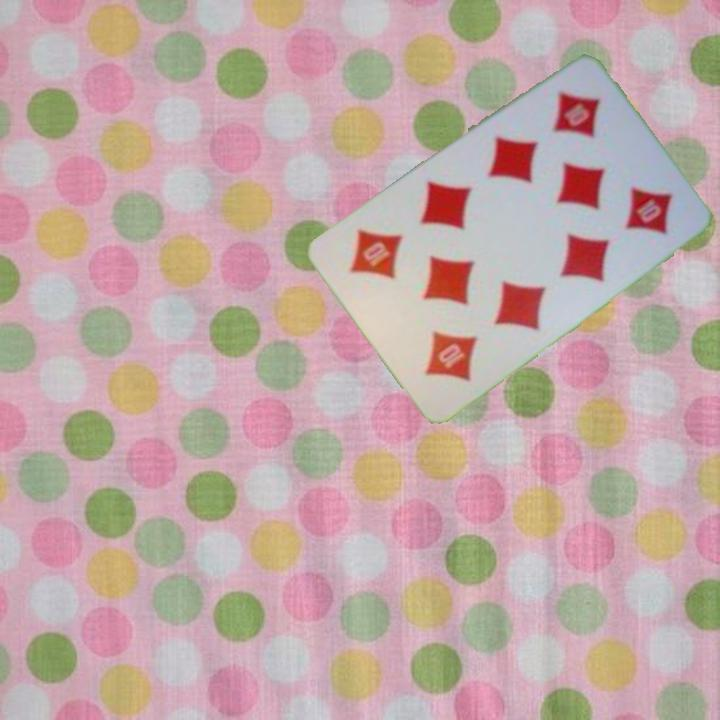d_10.png: (515, 65, 641, 194), (379, 279, 505, 408)
